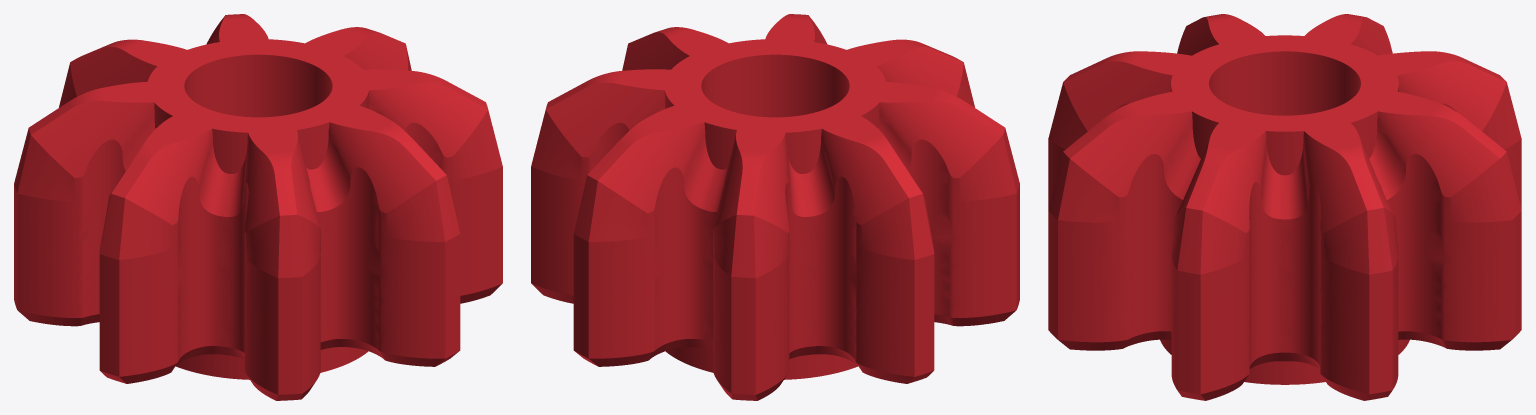
3 views of the same model, side by side, from view 1: azimuth 30°, elevation 25°; view 2: azimuth 150°, elevation 25°; view 3: azimuth 270°, elevation 25° (orthographic). The views are drawn at different scales.
Parts seen in each view (by area): view 1: 228-2500-2180; view 2: 228-2500-2180; view 3: 228-2500-2180.
Part boxes in pixels (box(x1,y1,x2,y2)): 228-2500-2180: box(14, 14, 502, 400); 228-2500-2180: box(531, 14, 1019, 400); 228-2500-2180: box(1048, 14, 1521, 400).
Bounding box in the file's own units: 0.015 × 0.00864 × 0.015.
